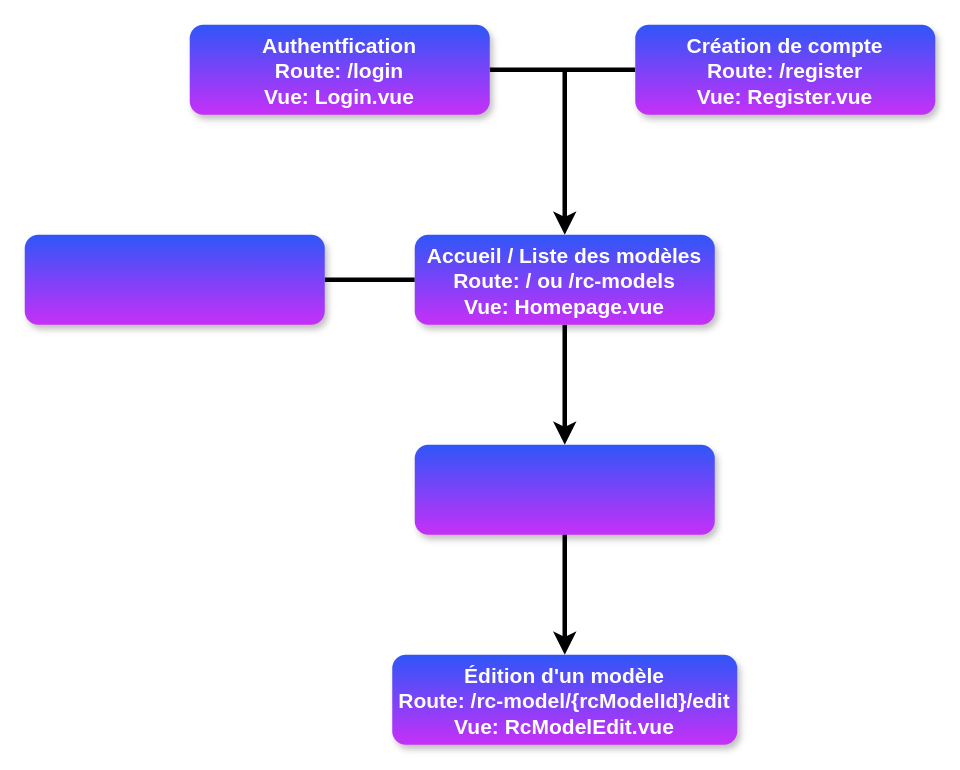
Image size: 960x770. Some labels were removed from this diagram. Each missing label, with the centre of its shape:
Détails d'un modèle Route: /rc-model/{rcModelId} Vue: RcModel.vue: (x=565, y=491)
Paramètres utilisateur Route: /user/settings Vue: UserSettings.vue: (x=175, y=281)
